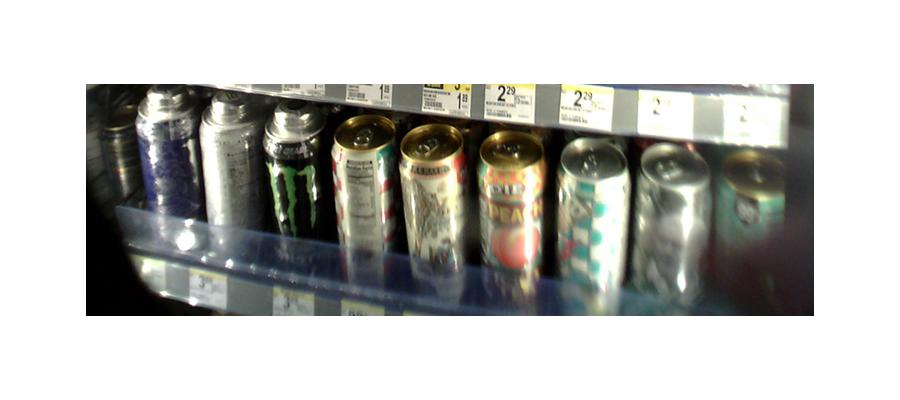bottle: (635, 150, 712, 311), (557, 141, 629, 311), (712, 148, 789, 303), (402, 129, 469, 302), (478, 134, 545, 304), (135, 86, 200, 254), (330, 123, 396, 287), (199, 97, 261, 267), (264, 102, 325, 251)
